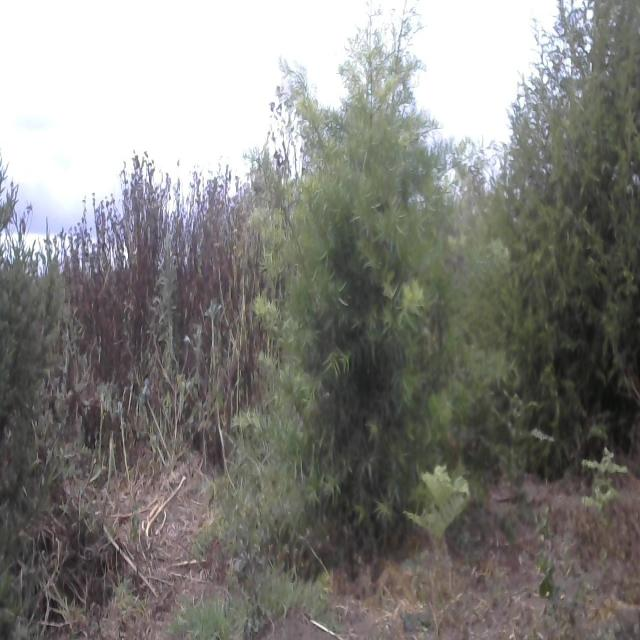Juniperus procesera: (501, 0, 640, 452)
Podocarpus falcatus: (263, 12, 487, 604)
